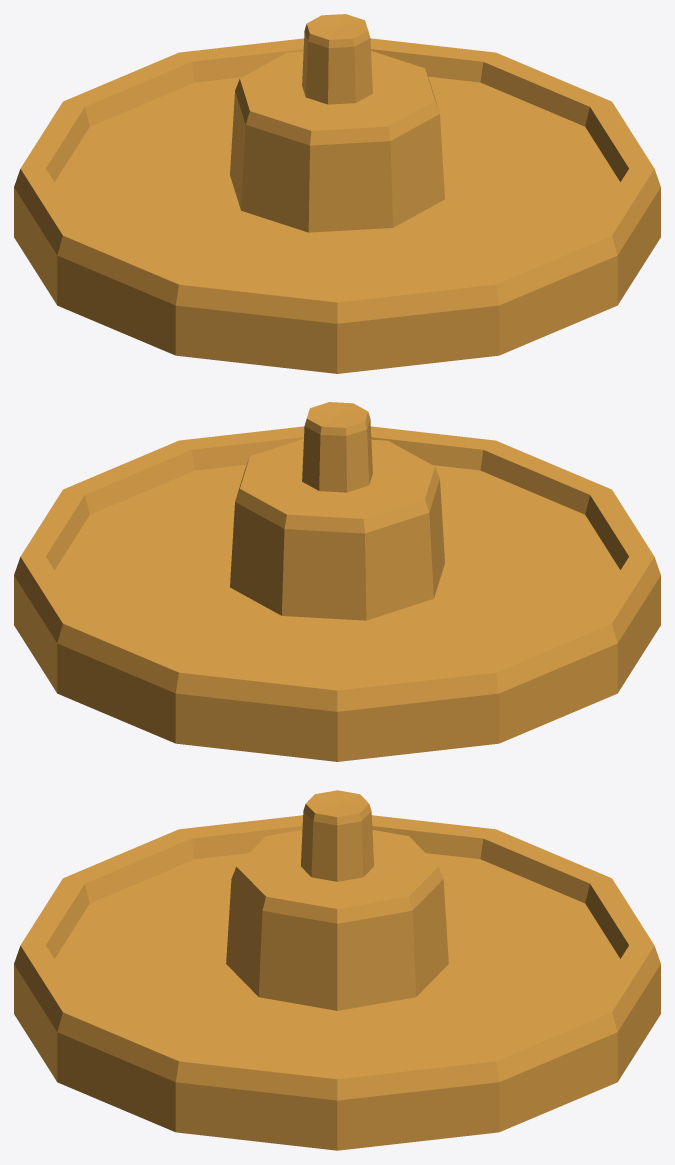
Rendered from fountain.glb.
3 renders of one model, top to bottom at view 1: azimuth 30°, elevation 25°; view 2: azimuth 150°, elevation 25°; view 3: azimuth 270°, elevation 25°, orthographic.
Parts seen in each view (by area): view 1: fountain; view 2: fountain; view 3: fountain.
Boxes of the visible parts, bbox=[...] form: fountain: bbox=[14, 14, 660, 373]; fountain: bbox=[14, 402, 660, 761]; fountain: bbox=[14, 790, 660, 1150].
Size of the model in its own units: 5.98 by 2.14 by 5.98.
